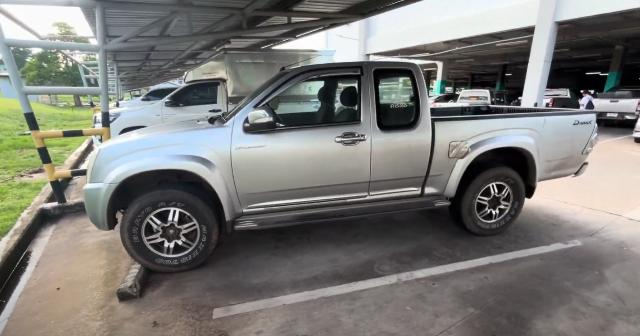pickup-truck: (84, 61, 597, 273)
